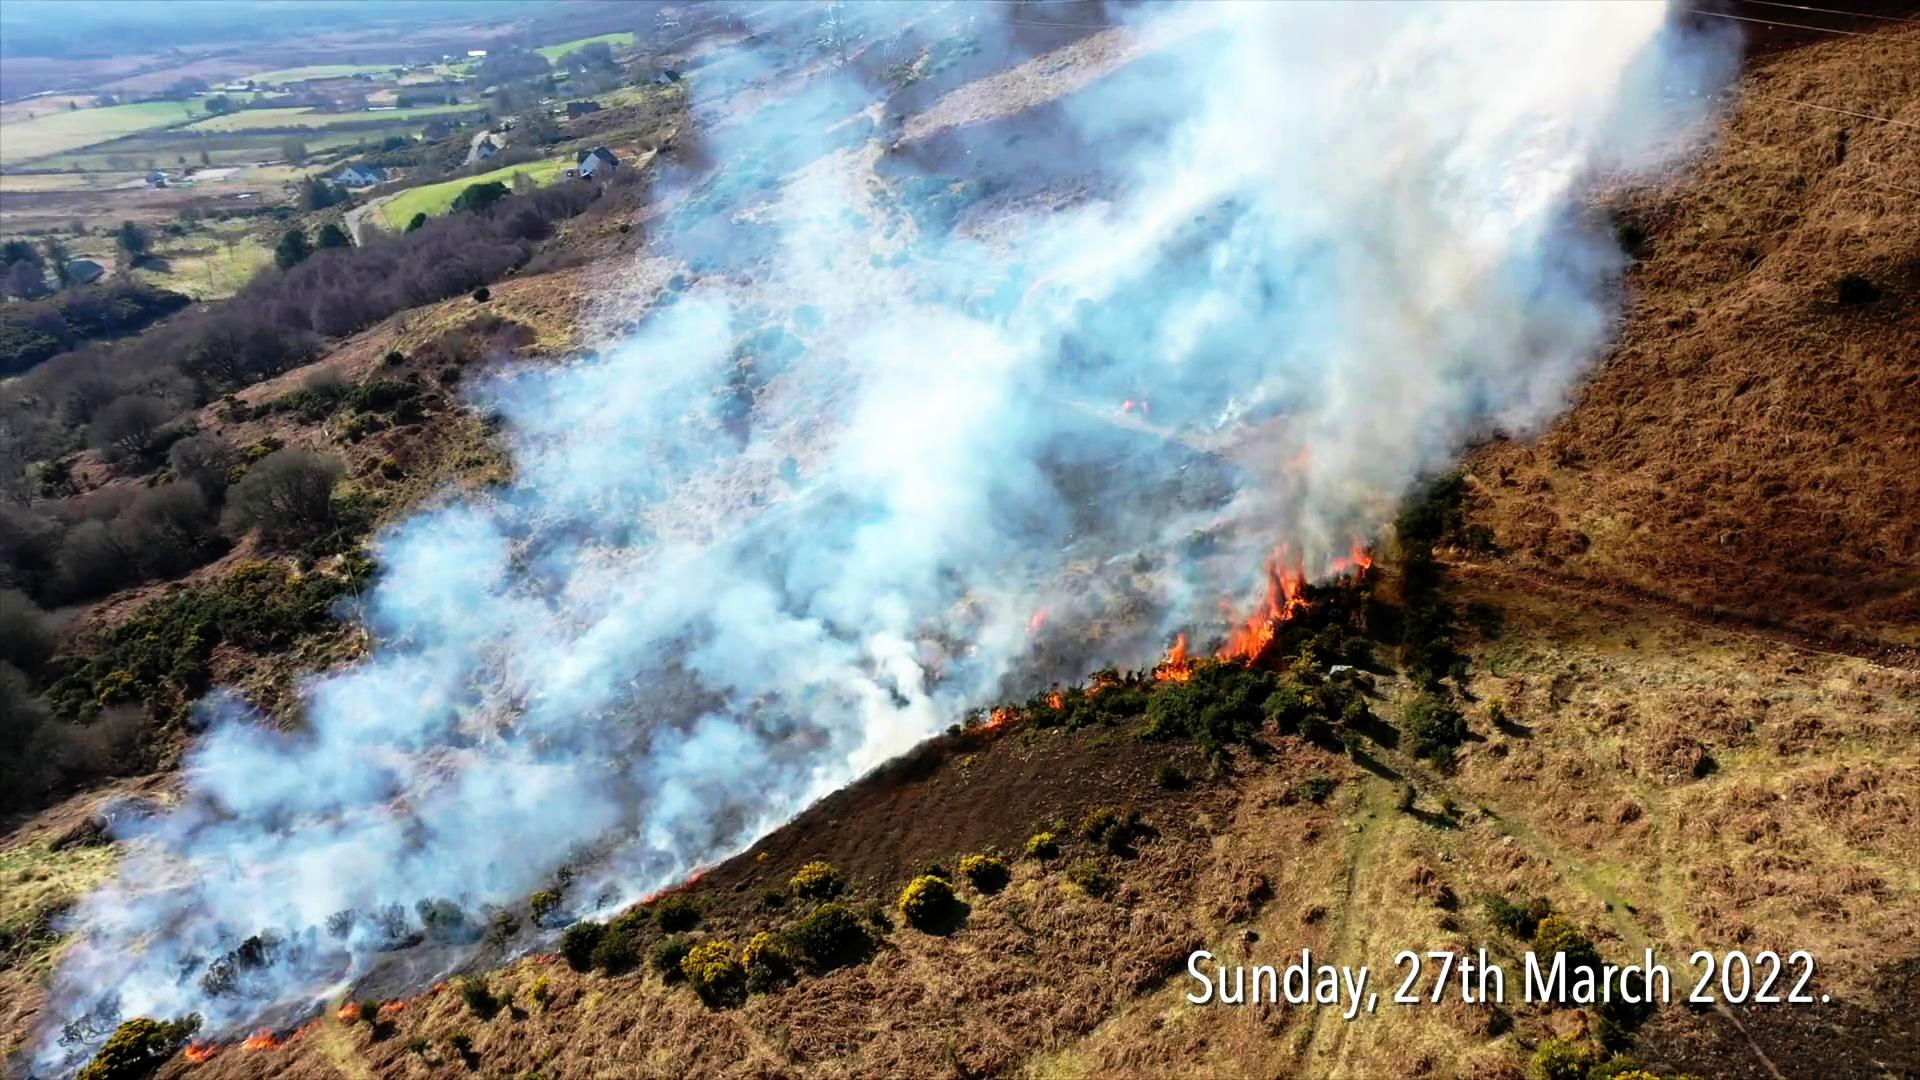fire: (1215, 553, 1315, 671)
smoke: (339, 284, 947, 923), (1105, 1, 1738, 589), (50, 684, 582, 1034), (841, 596, 982, 778)
